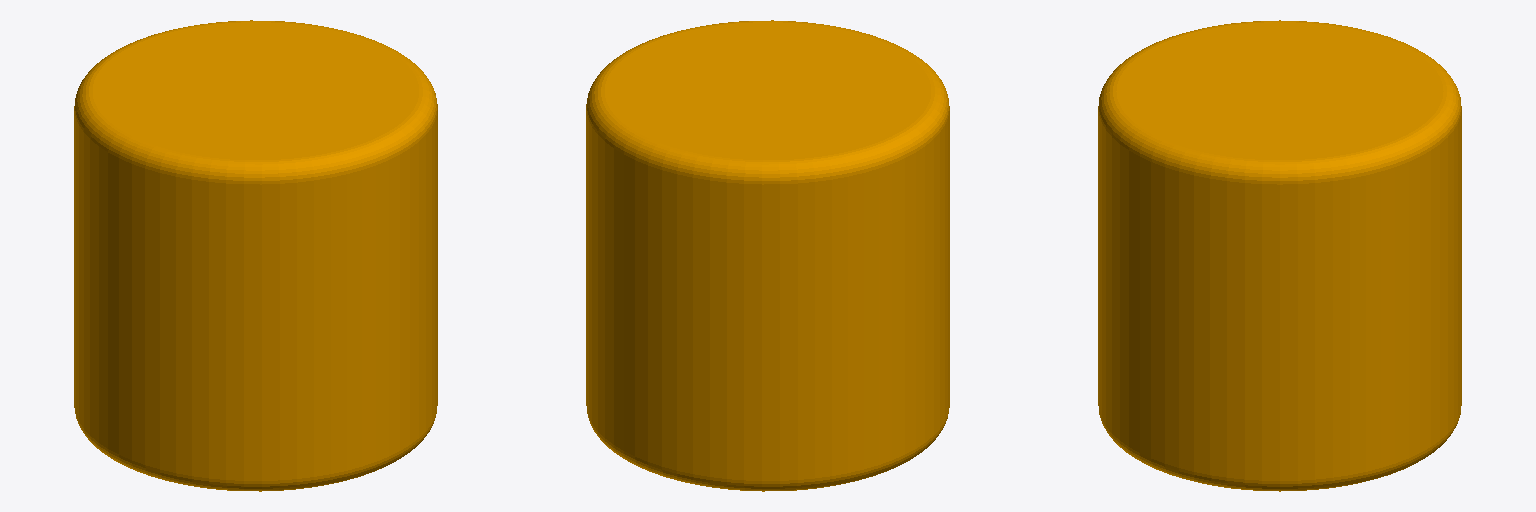
URDF robot description (cylinder):

<robot name="cylinder">
    <link name="base">
        <inertial>
            <origin xyz="-0.0 -0.0 -0.0" />
            <mass value="0.7808" />
            <inertia ixx="0.1131" ixy="0.0" 
                     ixz="-0.0" iyy="0.1131" 
                     iyz="0.0" izz="0.0971" />
        </inertial>
        <visual>
            <origin xyz="0 0 0" />
            <geometry>
                <mesh filename="visual_geometry.obj" />
            </geometry>
        </visual>
        <collision>
            <origin xyz="0 0 0" />
            <geometry>
                <mesh filename="collision_geometry.obj" />
            </geometry>
        </collision>
    </link>
</robot>

--- Render facts (derived) ---
3 views of the same robot in one strip: view 1: azimuth 30°, elevation 25°; view 2: azimuth 150°, elevation 25°; view 3: azimuth 270°, elevation 25° (orthographic).
Model cylinder with 1 links and 0 joints (none), rooted at base, posed every joint at zero.
Visible links, largest first — view 1: base; view 2: base; view 3: base.
Boxes of the visible links, left/top/right/bottom form: base: left=74, top=20, right=437, bottom=491; base: left=586, top=20, right=949, bottom=491; base: left=1098, top=20, right=1461, bottom=491.
Bounding box of the posed robot: 1 × 1 × 1 m (x, y, z).
1 mesh visuals loaded from 1 distinct referenced files (1 OBJ).